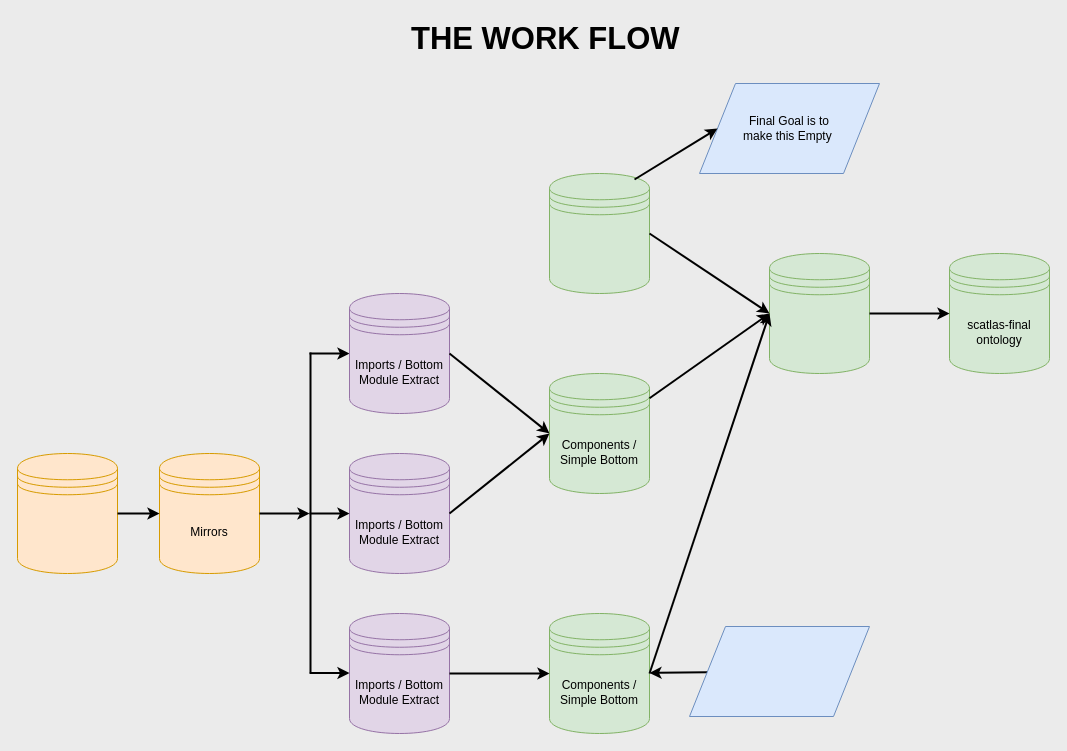
This 1067x751 diagram has some shape labels left out. The shapes that lost their labels are listed below. From the top down, each one's centre as x and y in pixels, then its label:
At point 599,233: "Subclasses".
At point 819,313: "scatlas-merged ontology".
At point 67,513: "The Purl Repositories".
At point 779,671: "Seeds from the curator".
